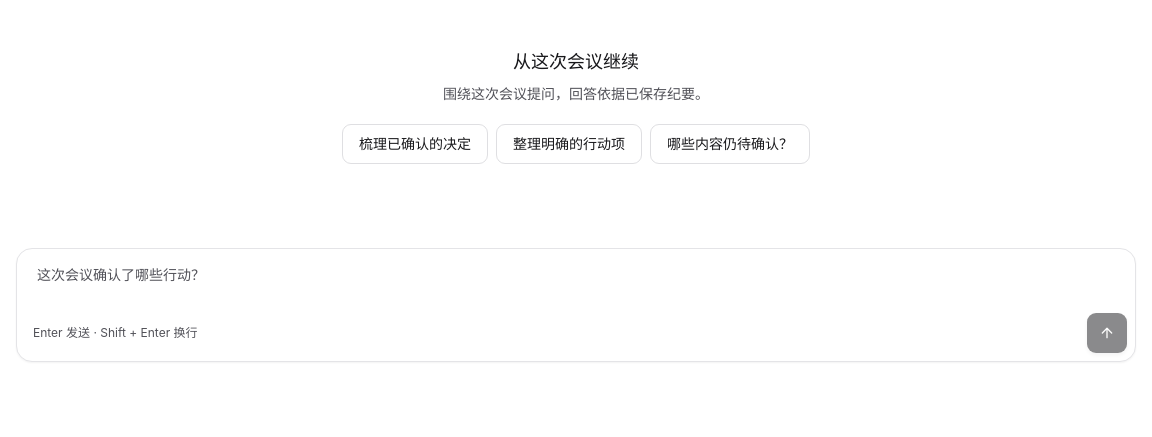
treats an empty successful response as a retryable failure and retains the question
Type "负责人是谁？" into the text box named "会议问题" at {"x": 576, "y": 285}, box x1=25 y1=257 x2=1127 y2=313
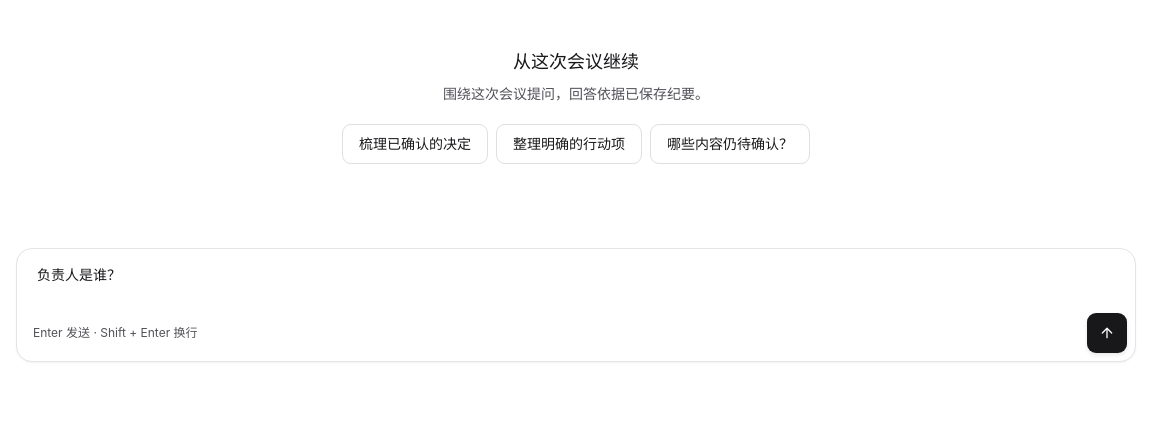
Click the button named "发送" at {"x": 1107, "y": 333}, box x1=1087 y1=313 x2=1127 y2=353
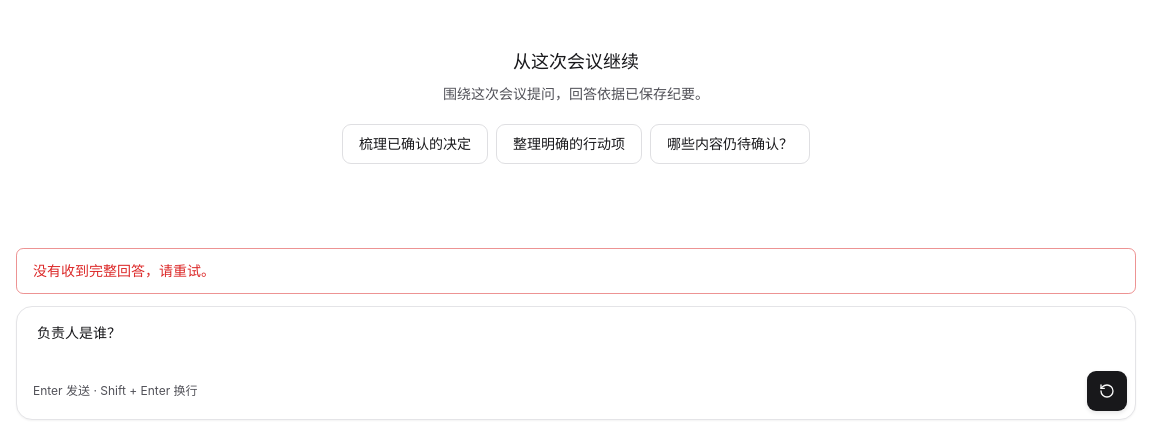
Now the button named "重试提问" is shown
Click the button named "重试提问" at {"x": 1107, "y": 391}, box x1=1087 y1=371 x2=1127 y2=411
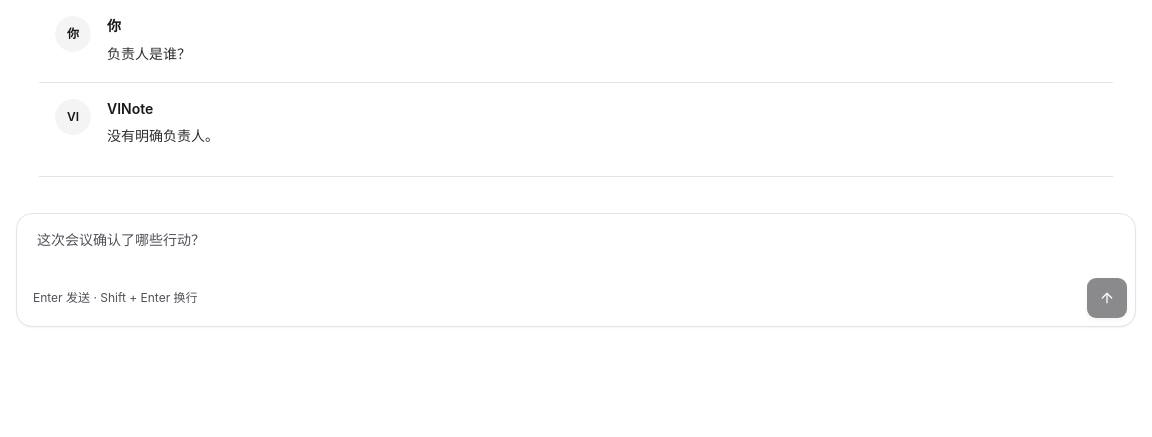
Now the text "没有明确负责人。" is shown, box x1=107 y1=127 x2=219 y2=144
